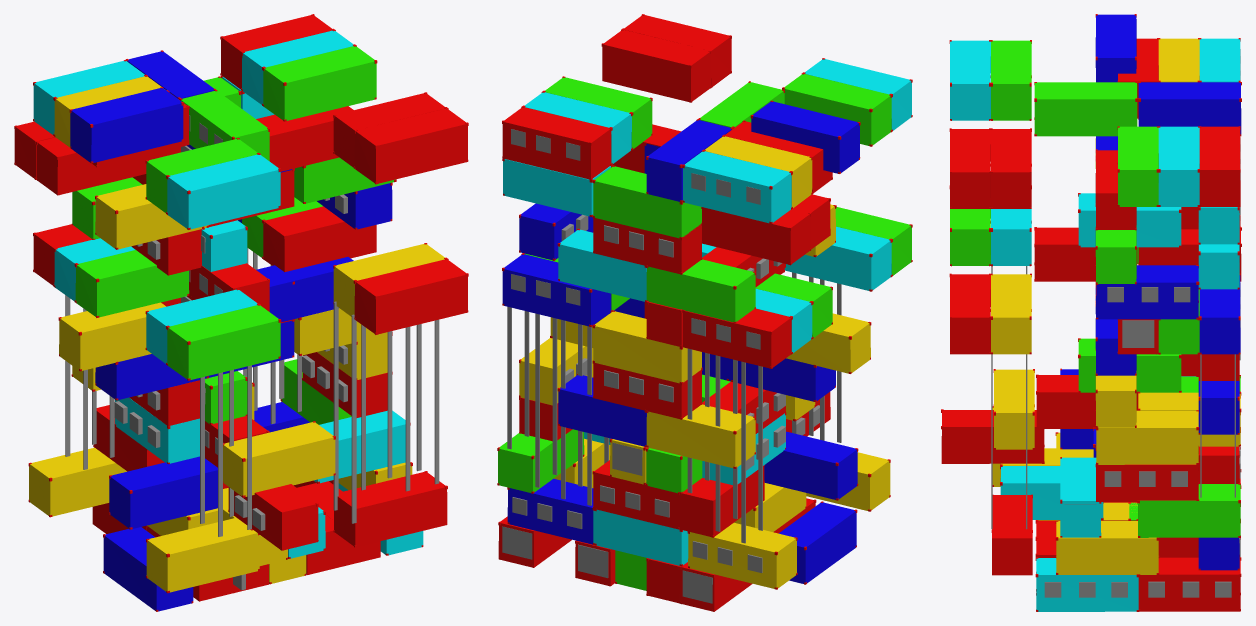
Rendered from ParentPart08FBX.FBX.
3 views of the same model, side by side, from view 1: azimuth 30°, elevation 25°; view 2: azimuth 150°, elevation 25°; view 3: azimuth 270°, elevation 25° (orthographic). The views are drawn at different scales.
Visible parts, largest first — view 1: ParentPart8; view 2: ParentPart8; view 3: ParentPart8.
Boxes of the visible parts, <box> form: ParentPart8: <box>14,14,468,611</box>; ParentPart8: <box>497,14,912,611</box>; ParentPart8: <box>941,14,1241,611</box>.
Size of the model in its own units: 7.07 by 6.02 by 10.07.
